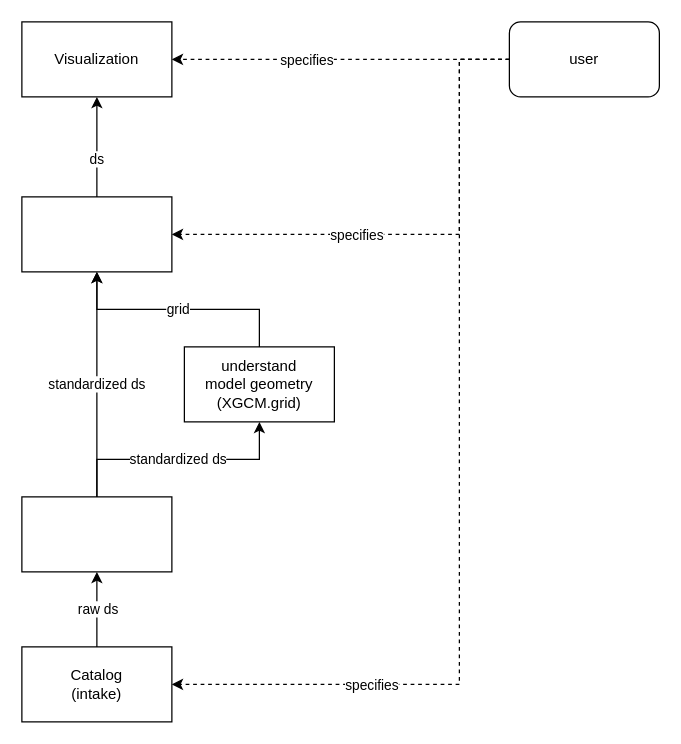
This 681x744 diagram has some shape labels left out. The centre of each missing label's shape, as x and y in pixels:
"Diagnostic" belongs at point (96, 234).
"Standardize (nemo_cf)" belongs at point (96, 534).
